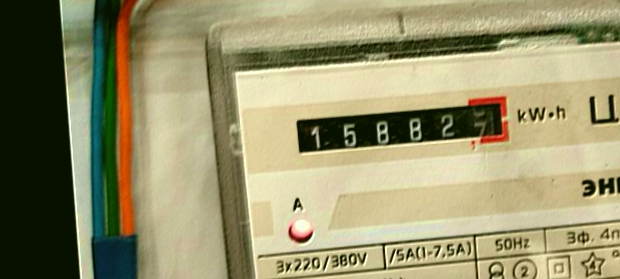1: (309, 122, 325, 151)
2: (439, 111, 457, 140)
5: (341, 121, 361, 149)
7: (472, 119, 489, 137)
8: (374, 118, 392, 147), (407, 115, 424, 144)
screen: (282, 88, 521, 167)
